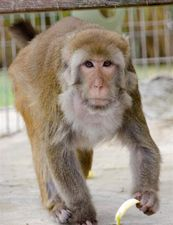monkey: (5, 8, 155, 215)
